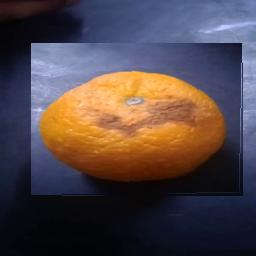Orange Semifresh: (32, 44, 244, 197)
